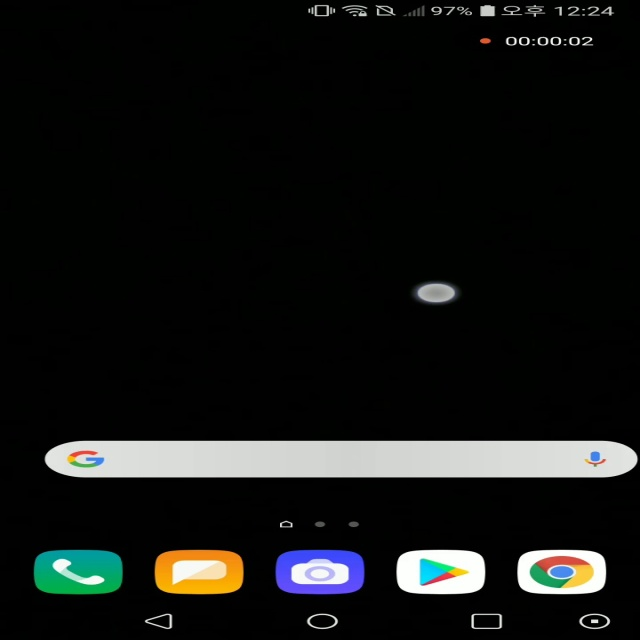Cursor: (415, 283, 459, 305)
